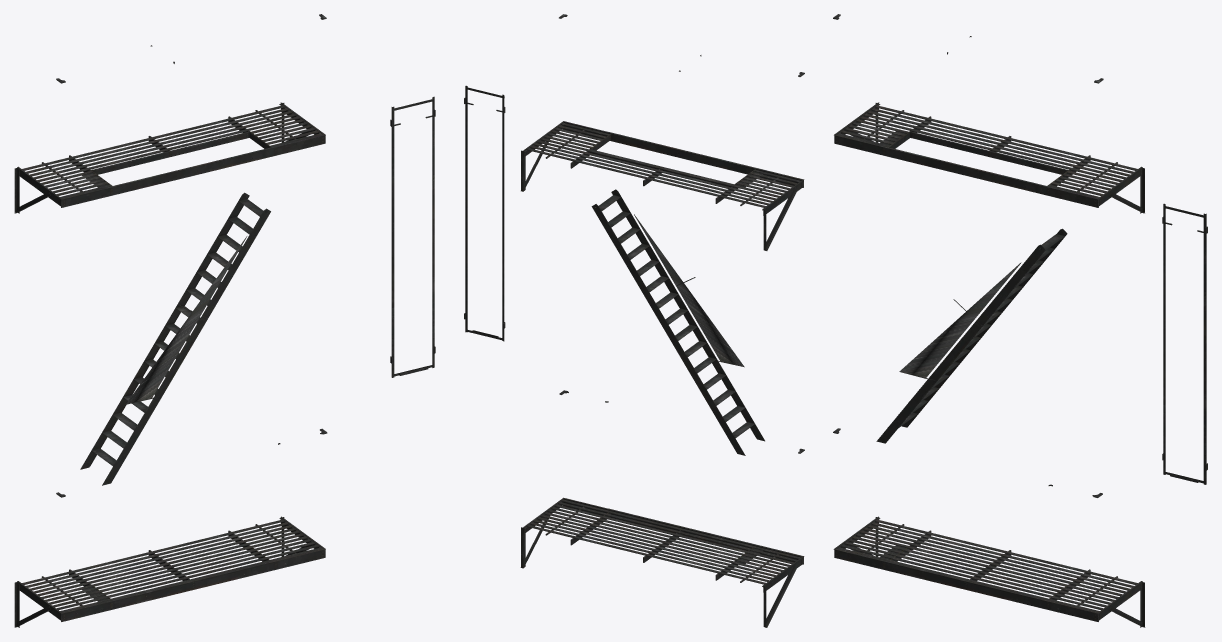
The model's file is modular_fire_escape.glb.
3 views of the same model, side by side, from view 1: azimuth 30°, elevation 25°; view 2: azimuth 150°, elevation 25°; view 3: azimuth 330°, elevation 25° (orthographic). The views are drawn at different scales.
Visible parts, largest first — view 1: modular_fire_escape_platform_middle, modular_fire_escape_railing_middle; view 2: modular_fire_escape_platform_middle, modular_fire_escape_railing_middle; view 3: modular_fire_escape_platform_middle, modular_fire_escape_railing_middle.
Boxes of the visible parts, left/top/right/bottom form: modular_fire_escape_platform_middle: left=14, top=102, right=325, bottom=627; modular_fire_escape_railing_middle: left=56, top=14, right=435, bottom=497; modular_fire_escape_platform_middle: left=520, top=121, right=804, bottom=627; modular_fire_escape_railing_middle: left=464, top=14, right=804, bottom=455; modular_fire_escape_platform_middle: left=833, top=102, right=1145, bottom=627; modular_fire_escape_railing_middle: left=833, top=14, right=1207, bottom=497.
Size of the model in its own units: 6.66 by 9.76 by 1.4.
2 materials, 2 textured.
